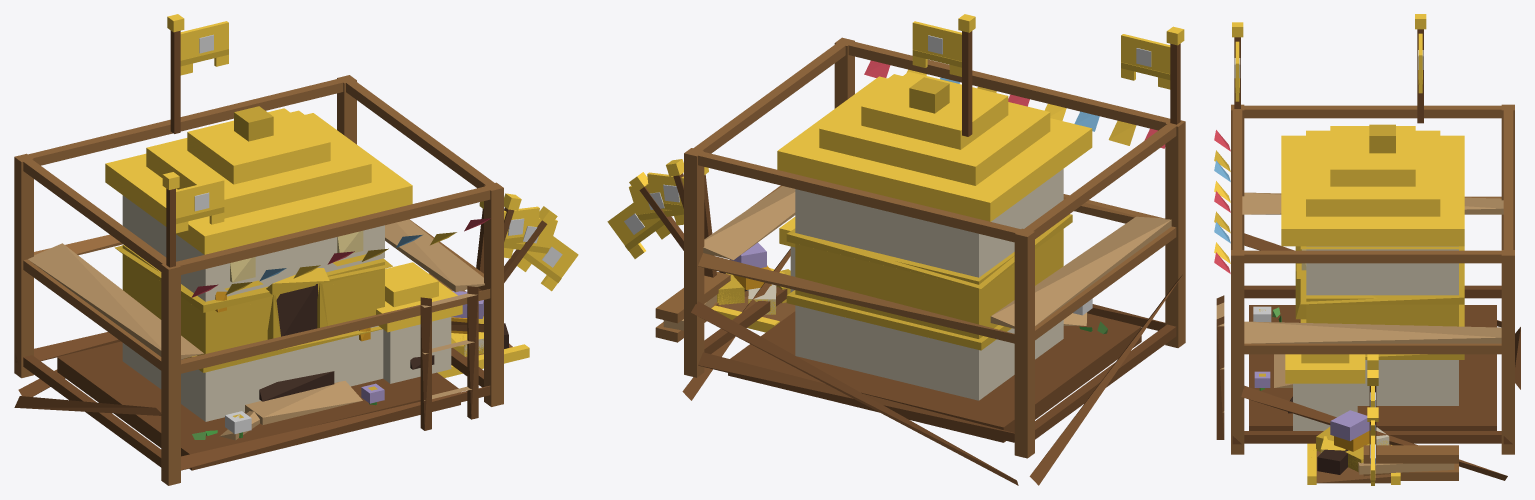
File: bee-home.glb
The picture shows the model from 3 angles, left to right: view 1: azimuth 30°, elevation 25°; view 2: azimuth 150°, elevation 25°; view 3: azimuth 270°, elevation 25°; orthographic projection. The views are drawn at different scales.
Parts seen in each view (by area): view 1: scaffold-mesh, built-mesh, dismantle-75-mesh, dismantle-50-mesh, scaffold-banner, banner, dismantle-25-mesh, dismantle-25-banner, flag-pole, dismantle-50-banner, scaffold-flag-pole, dismantle-25-flag-pole (+1 smaller); view 2: scaffold-mesh, built-mesh, dismantle-50-mesh, dismantle-75-mesh, banner, scaffold-banner, dismantle-25-mesh, dismantle-25-banner, flag-pole, scaffold-flag-pole, dismantle-50-banner, dismantle-75-banner (+1 smaller); view 3: scaffold-mesh, built-mesh, dismantle-50-mesh, dismantle-75-mesh, dismantle-25-mesh, flag-pole, scaffold-flag-pole, scaffold-banner.
Boxes of the visible parts, box(x1,y1,x2,y2) form: scaffold-mesh: box(14, 75, 503, 485); built-mesh: box(105, 106, 462, 470); dismantle-75-mesh: box(114, 195, 529, 439); dismantle-50-mesh: box(57, 282, 512, 454); scaffold-banner: box(176, 179, 224, 233); banner: box(180, 21, 228, 75); dismantle-25-mesh: box(263, 291, 529, 419); dismantle-25-banner: box(517, 231, 578, 291); flag-pole: box(167, 14, 184, 133); dismantle-50-banner: box(504, 215, 557, 262); scaffold-flag-pole: box(162, 172, 179, 267); dismantle-25-flag-pole: box(504, 206, 557, 282); scaffold-mesh: box(655, 37, 1185, 485); built-mesh: box(728, 71, 1097, 442); dismantle-50-mesh: box(717, 217, 1141, 427); dismantle-75-mesh: box(717, 169, 1099, 400); banner: box(912, 21, 961, 76); scaffold-banner: box(1121, 34, 1170, 89); dismantle-25-mesh: box(711, 242, 1107, 331); dismantle-25-banner: box(607, 196, 670, 258); flag-pole: box(958, 14, 975, 136); scaffold-flag-pole: box(1166, 26, 1184, 124); dismantle-50-banner: box(629, 183, 683, 230); dismantle-75-banner: box(647, 172, 683, 212); scaffold-mesh: box(1214, 104, 1520, 480); built-mesh: box(1249, 124, 1496, 430); dismantle-50-mesh: box(1249, 305, 1496, 482); dismantle-75-mesh: box(1253, 246, 1464, 484); dismantle-25-mesh: box(1253, 307, 1400, 484); flag-pole: box(1415, 14, 1426, 123); scaffold-flag-pole: box(1232, 22, 1243, 108); scaffold-banner: box(1234, 41, 1240, 101).
Size of the model in its own units: 2.74 by 2.11 by 1.61.
